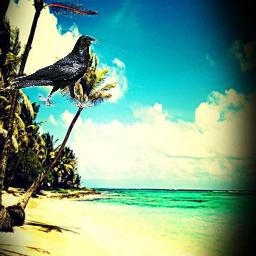Crow: (9, 35, 99, 108)
